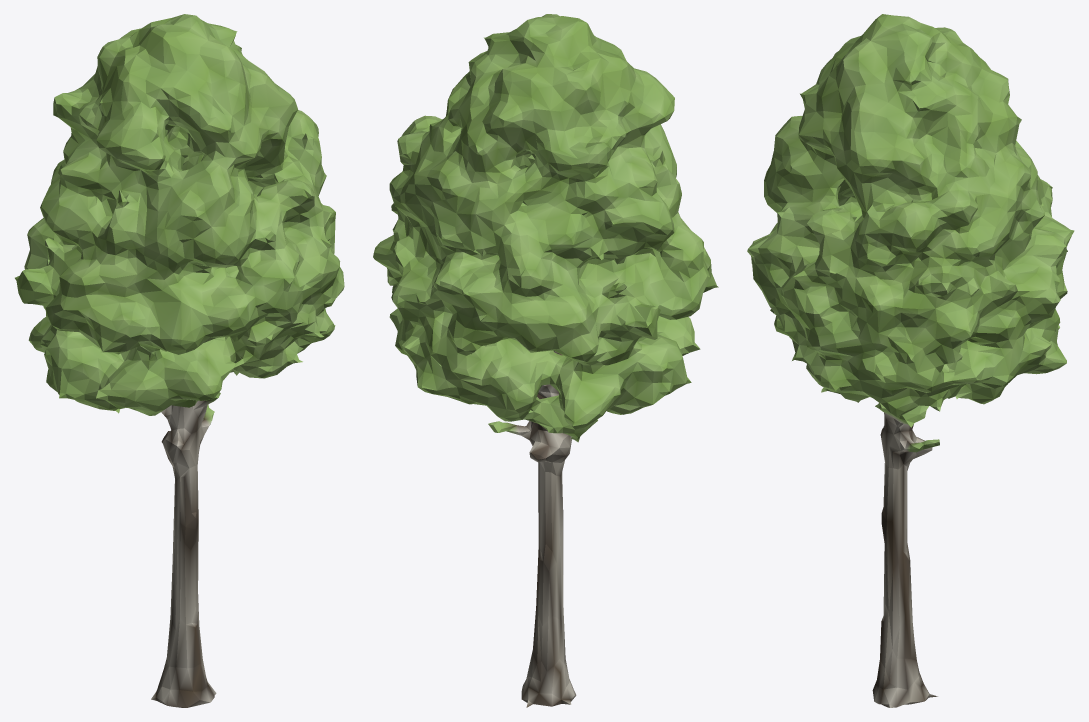
File: aspen_tree.glb
3 renders of one model, left to right at view 1: azimuth 30°, elevation 25°; view 2: azimuth 150°, elevation 25°; view 3: azimuth 270°, elevation 25°, orthographic.
Parts seen in each view (by area): view 1: world; view 2: world; view 3: world.
Part boxes in pixels (x1,y1,x2,y2): world: [15, 14, 344, 707]; world: [373, 14, 718, 707]; world: [747, 14, 1074, 707].
Size of the model in its own units: 2.12 by 4.8 by 2.12.
